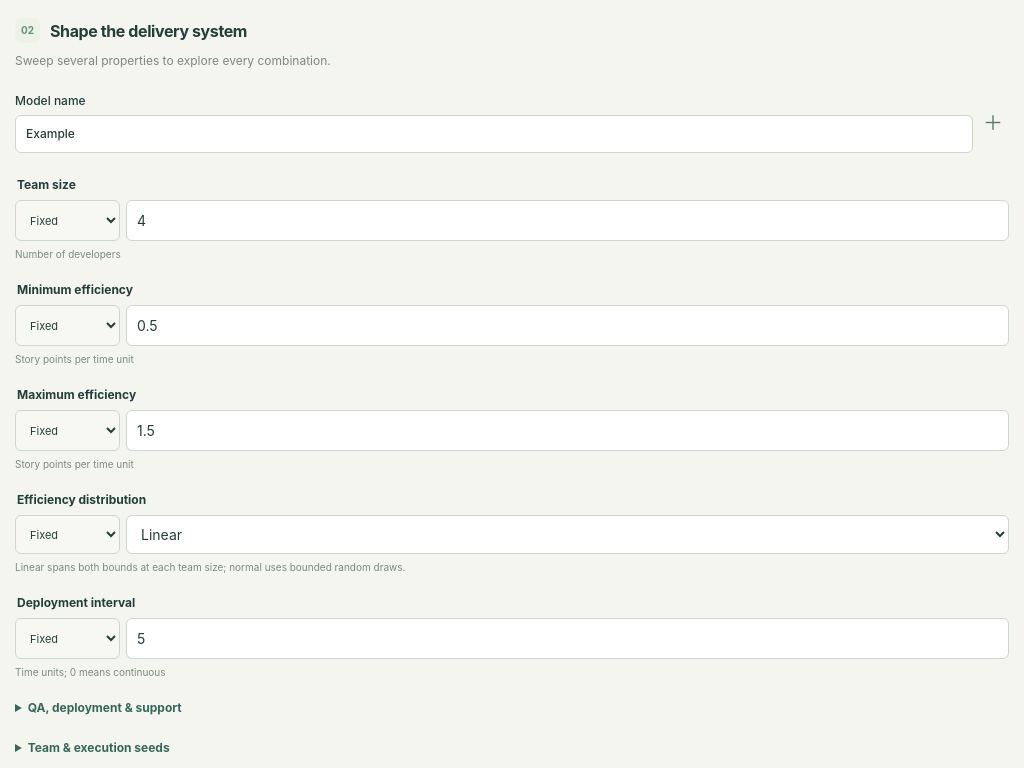
input behavior › changes team size into a multi-value sweep and supports duplication
This screenshot has width=1024, height=768.
Step 1. Select "Sweep: list" in the dropdown named "Team size mode" → (68, 221), box [15, 200, 120, 241]
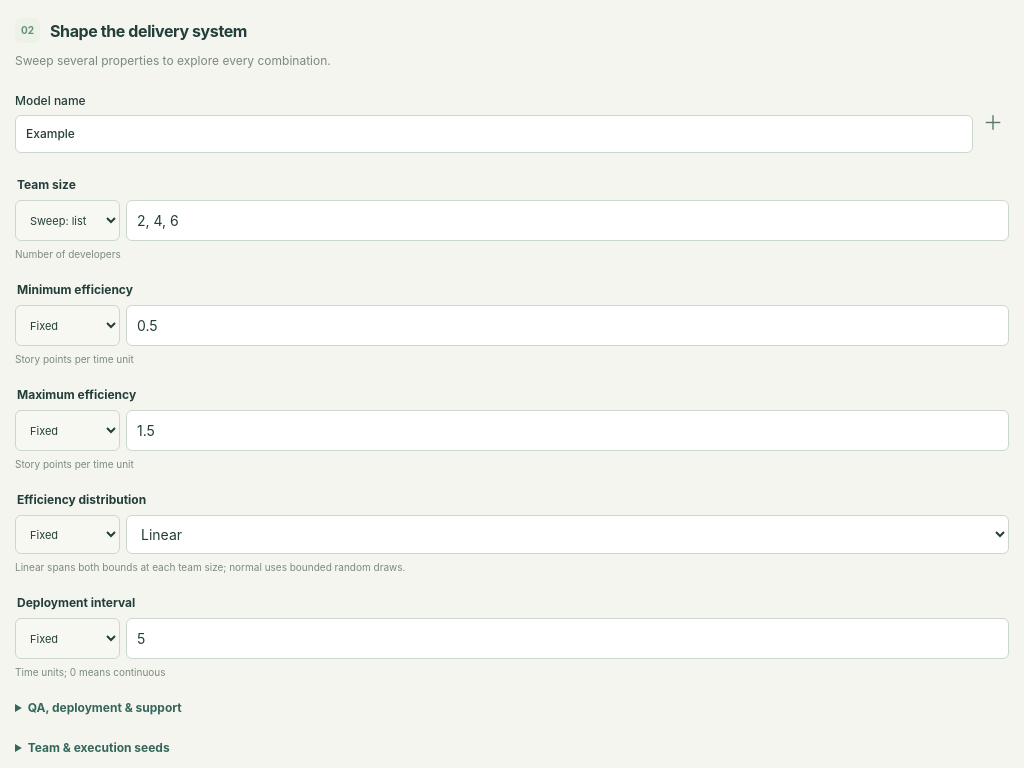
Step 2. Click the button named "Duplicate Example" → (993, 123), box [977, 107, 1009, 139]
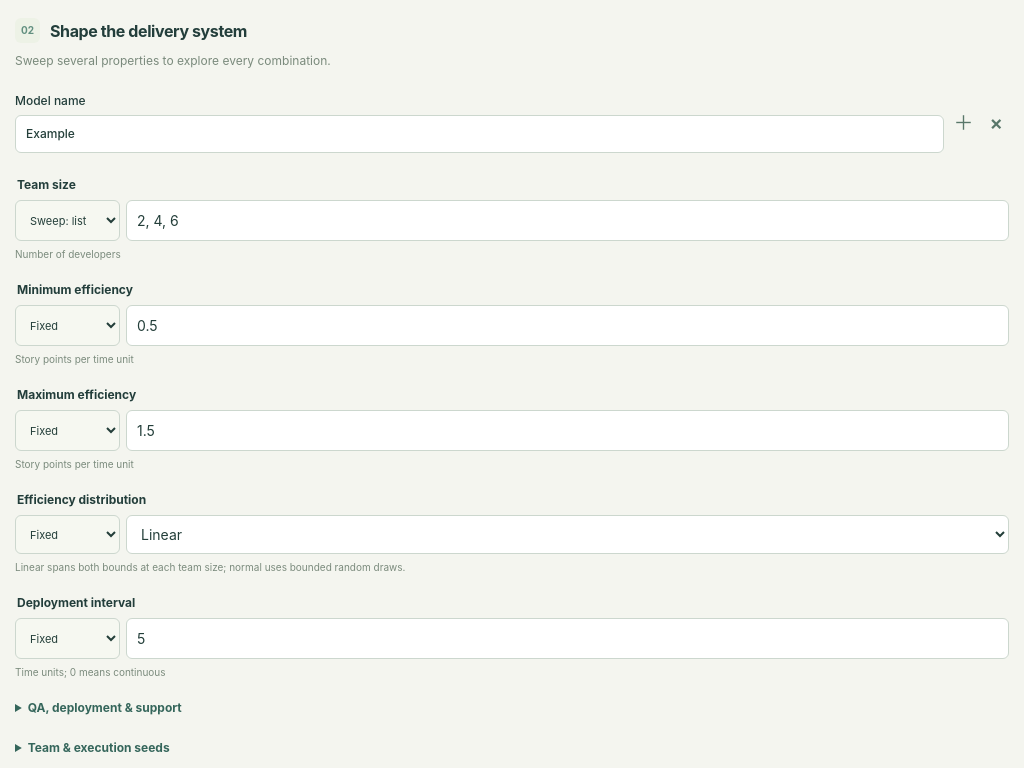
Result: the number of fields labelled "Model name" is 2
